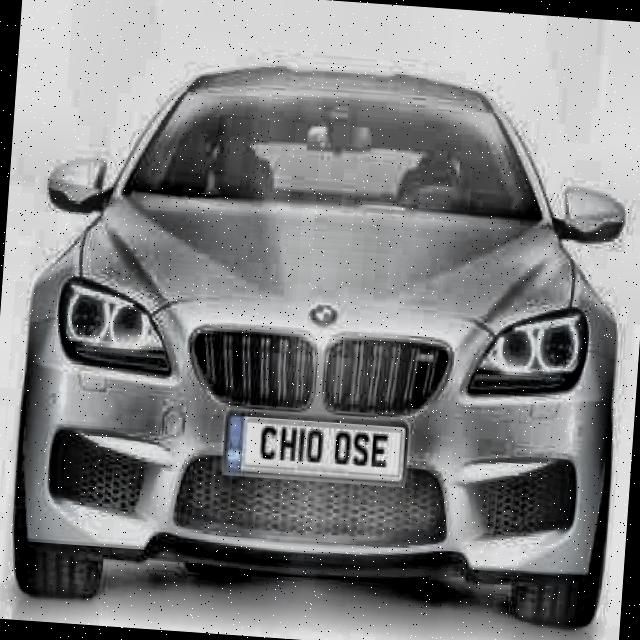license_plate: (219, 409, 408, 490)
